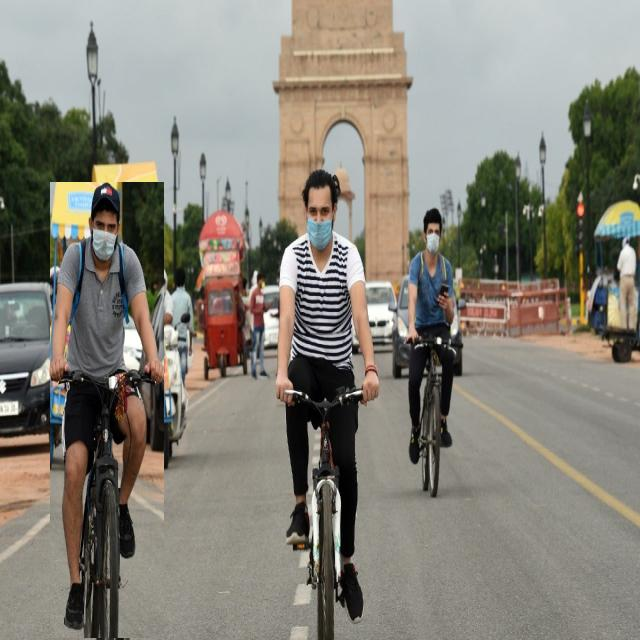bicycle: (50, 182, 164, 638), (276, 169, 379, 639), (404, 209, 454, 488)
car: (0, 282, 71, 451), (389, 276, 411, 378)
motorcycle: (161, 269, 190, 454)
